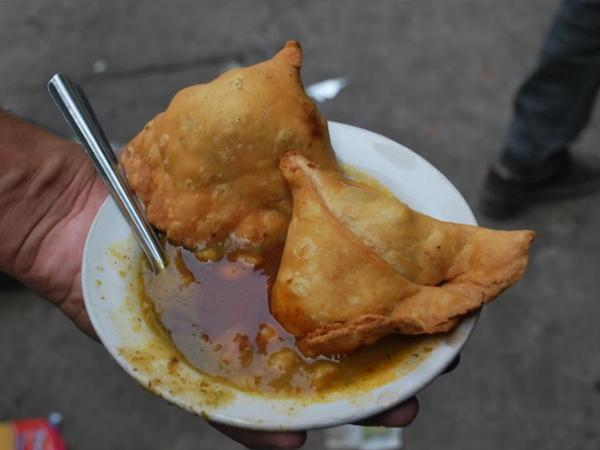samosa: (271, 154, 533, 356), (121, 42, 336, 267)
